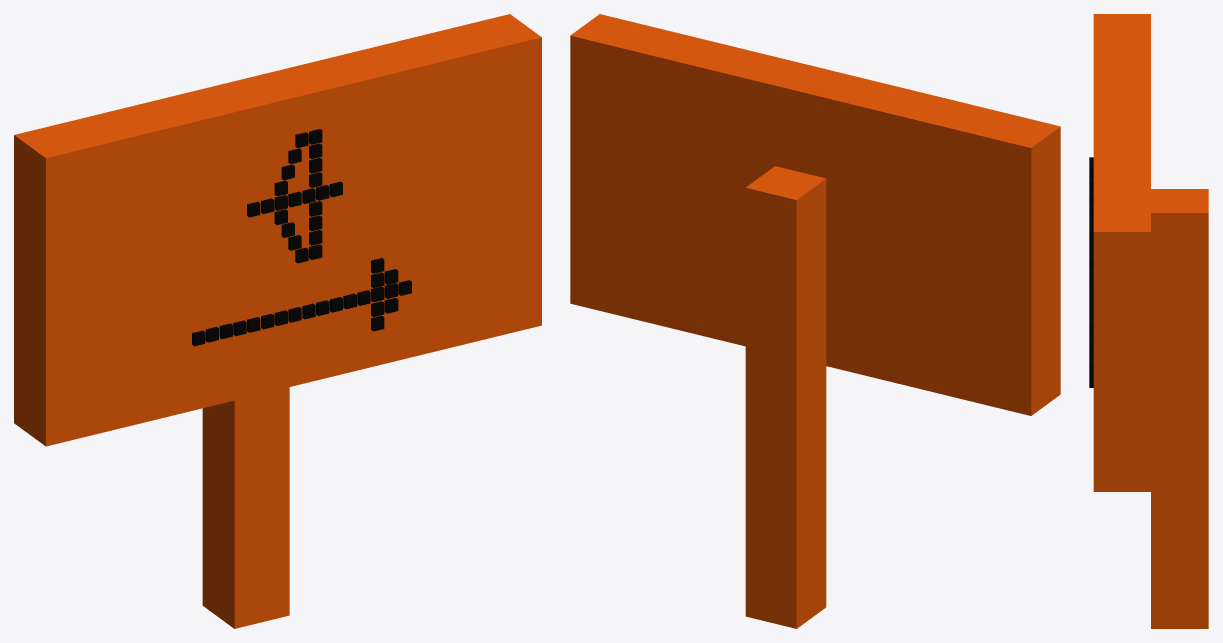
The model's file is AfterShot.fbx.
3 renders of one model, left to right at view 1: azimuth 30°, elevation 25°; view 2: azimuth 150°, elevation 25°; view 3: azimuth 270°, elevation 25°, orthographic. The views are drawn at different scales.
Visible parts, largest first — view 1: 板, 杭; view 2: 板, 杭; view 3: 板, 杭.
Boxes of the visible parts, x1,y1,x2,y2 form: 板: (14,14,541,446); 杭: (202,387,289,628); 板: (570,14,1060,415); 杭: (745,166,826,628); 板: (1093,14,1150,491); 杭: (1151,189,1208,628).
Bounding box in the file's own units: 180 × 190 × 41.5.
